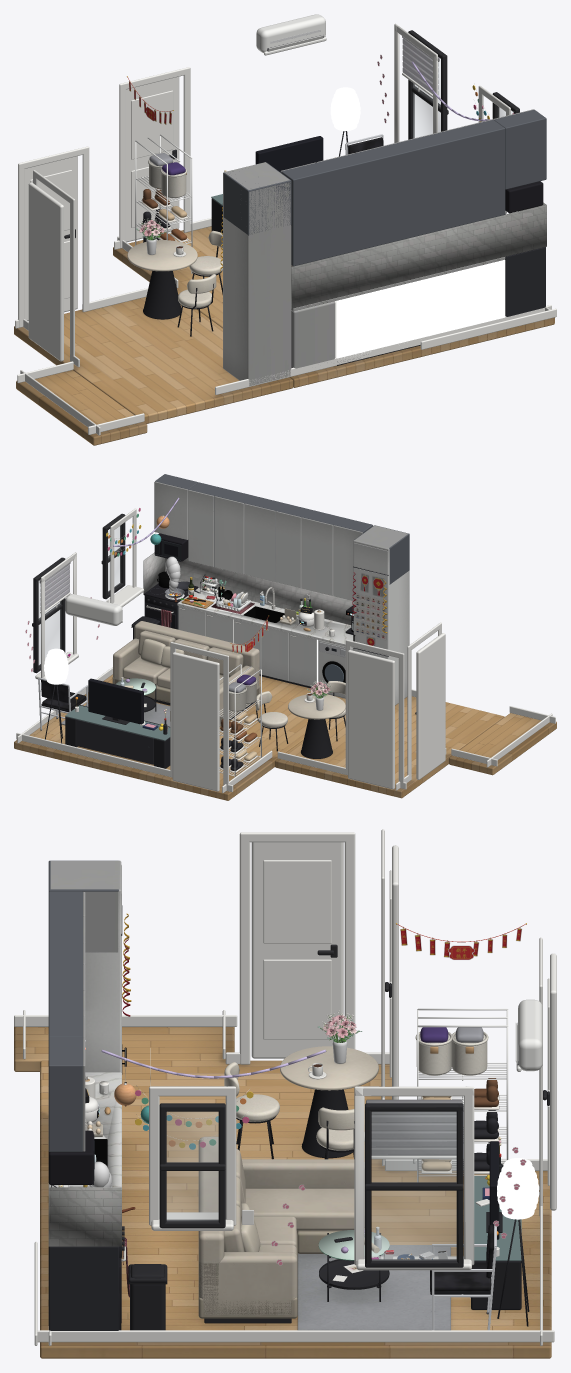
Rendered from living-KxfvHEw4.glb.
The picture shows the model from 3 angles, top to bottom: view 1: azimuth 30°, elevation 25°; view 2: azimuth 150°, elevation 25°; view 3: azimuth 270°, elevation 25°; orthographic projection. The views are drawn at different scales.
Visible parts, largest first — view 1: Upper_Cabinets, Floor_entry, Fridge, Backsplash, Kitchen_Cabinets, Door_door-closet-entry, Door_door-roommate-d, Floor_living, Window_window-living-north, Floor_entry-alcove, Dining_Table, Door_front-door (+21 smaller); view 2: Upper_Cabinets, Floor_living, Door_door-roommate-d, Door_front-door, Fridge, Floor_entry, Sofa, Kitchen_Cabinets, TV_Stand, Door_door-closet-entry, Window_window-living-north, Backsplash (+31 smaller); view 3: Floor_living, Window_window-living-north, Door_door-closet-entry, Sofa, Floor_entry, Window_window-living-south, Upper_Cabinets, Fridge, Rug, Wall_east_Base1, Stove, Casing_door-closet-entry (+25 smaller).
Boxes of the visible parts, x1,y1,x2,y2 form: Upper_Cabinets: (223,109,546,266); Floor_entry: (14,297,293,423); Fridge: (222,162,291,385); Backsplash: (291,204,546,308); Kitchen_Cabinets: (334,259,505,365); Door_door-closet-entry: (28,182,63,361); Door_door-roommate-d: (126,76,179,242); Floor_living: (113,226,554,387); Window_window-living-north: (394,23,448,142); Floor_entry-alcove: (16,370,147,445); Dining_Table: (127,240,197,319); Door_front-door: (25,156,77,320); Upper_Cabinets: (154,474,409,600); Floor_living: (14,674,345,800); Door_door-roommate-d: (172,652,219,791); Door_front-door: (348,650,394,789); Fridge: (353,525,409,705); Floor_entry: (275,696,504,798); Sofa: (112,621,260,726); Kitchen_Cabinets: (178,606,318,689); TV_Stand: (65,705,170,768); Door_door-closet-entry: (415,633,445,779); Window_window-living-north: (32,552,78,679); Backsplash: (165,557,353,624); Floor_living: (40,1167,551,1358); Window_window-living-north: (354,1086,474,1270); Door_door-closet-entry: (251,842,343,1058); Sofa: (198,1136,364,1323); Floor_entry: (40,1060,391,1168); Window_window-living-south: (149,1086,236,1230); Upper_Cabinets: (48,860,118,1151); Fridge: (50,860,122,1074); Rug: (297,1245,450,1330); Wall_east_Base1: (37,1330,554,1342); Stove: (48,1226,125,1330); Casing_door-closet-entry: (239,832,355,1064).
Bounding box in the file's own units: 6.65 × 2.72 × 4.61.
282 materials, 54 textured.
